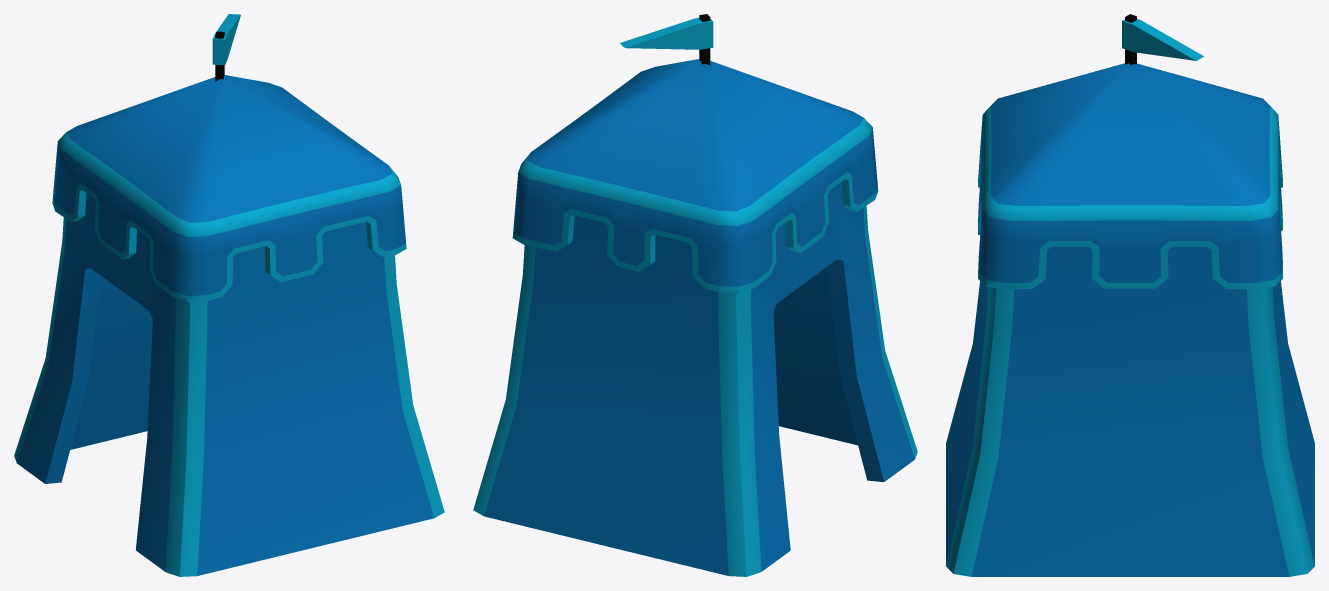
The model's file is tent.fbx.
The picture shows the model from 3 angles, left to right: view 1: azimuth 30°, elevation 25°; view 2: azimuth 150°, elevation 25°; view 3: azimuth 270°, elevation 25°; orthographic projection. The views are drawn at different scales.
Visible parts, largest first — view 1: tent; view 2: tent; view 3: tent.
Part boxes in pixels (x1=…): tent: x1=14, y1=14, x2=444, y2=576; tent: x1=473, y1=14, x2=917, y2=576; tent: x1=946, y1=14, x2=1314, y2=576.
Size of the model in its own units: 216 by 340 by 233.
